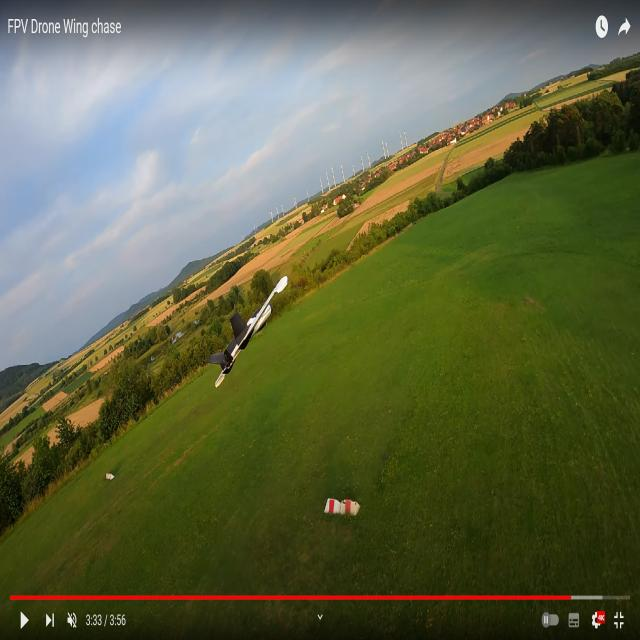iha: (252, 309, 256, 361)
